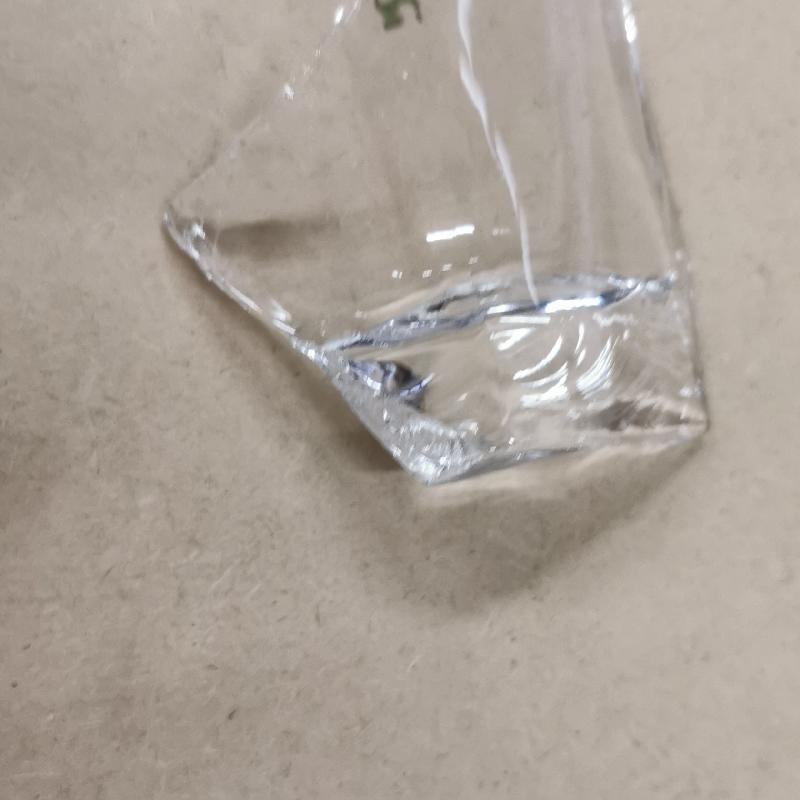glass: (157, 3, 718, 490)
